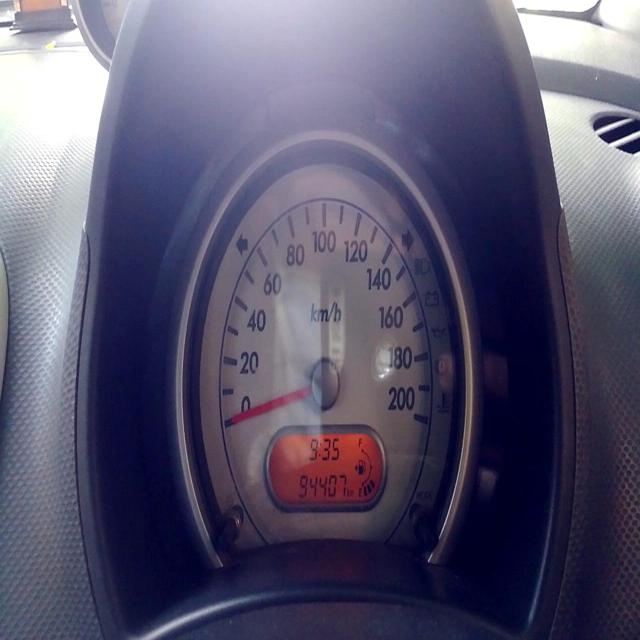odometer: (295, 469, 352, 502)
